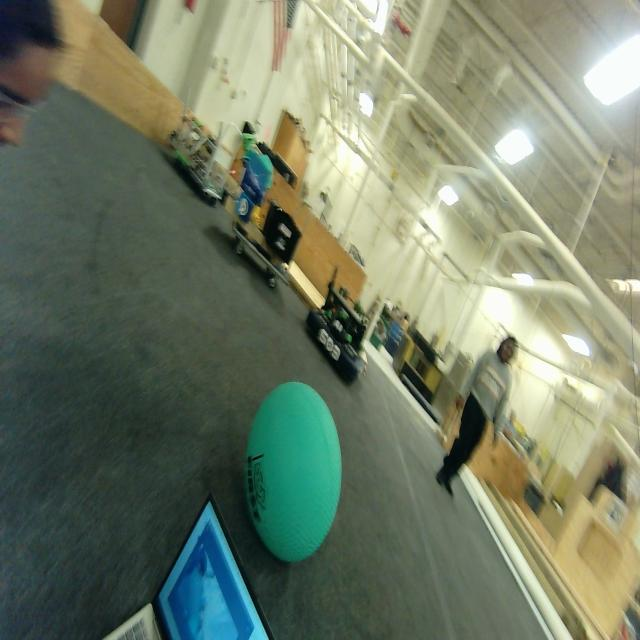algae: (236, 372, 357, 568)
